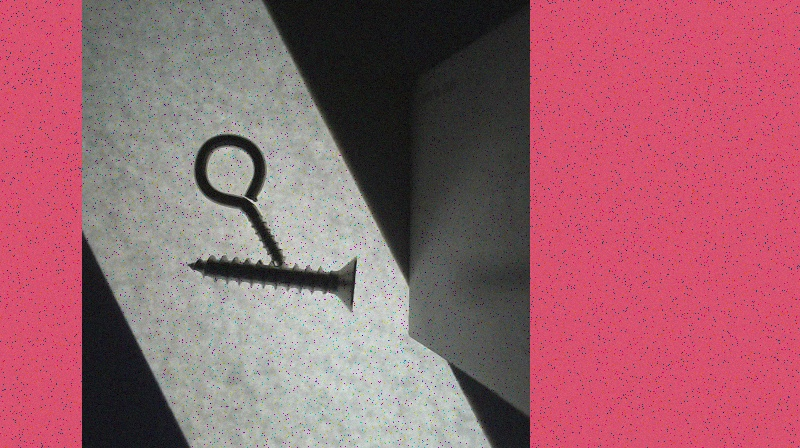O001: (192, 132, 290, 269)
S001: (185, 255, 356, 317)
